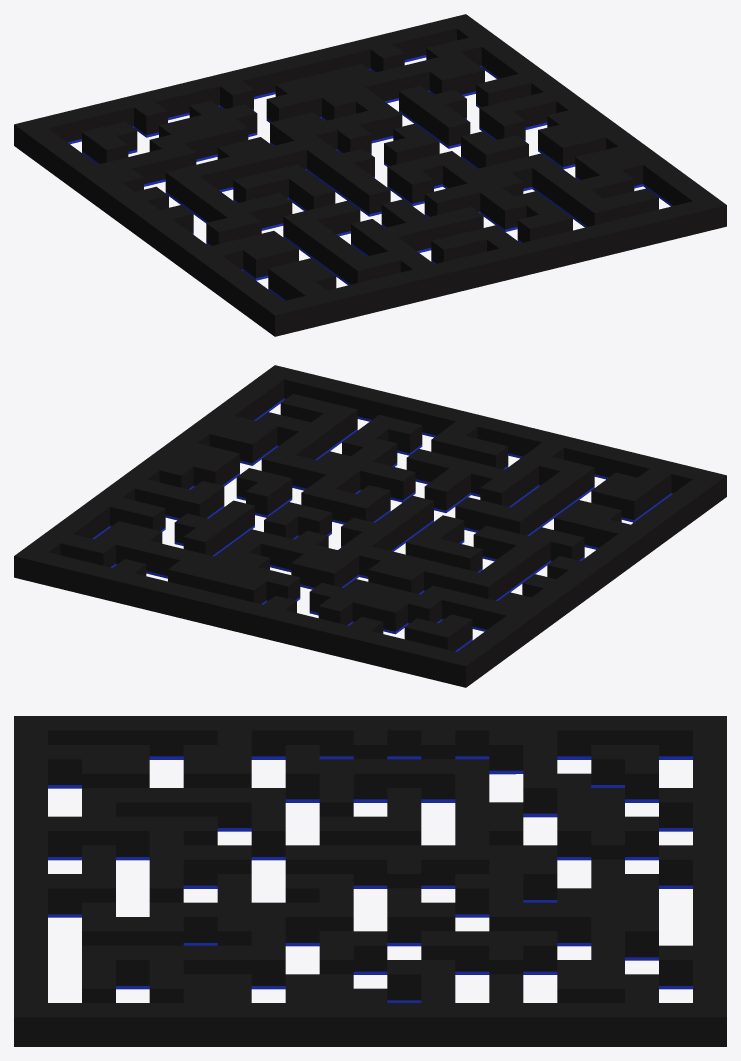
3 views of the same model, one above another, from view 1: azimuth 30°, elevation 25°; view 2: azimuth 150°, elevation 25°; view 3: azimuth 270°, elevation 25° (orthographic). The views are drawn at different scales.
Visible parts, largest first — view 1: Plane; view 2: Plane; view 3: Plane.
Part boxes in pixels (x1=…): Plane: x1=14, y1=14, x2=726, y2=336; Plane: x1=14, y1=365, x2=726, y2=687; Plane: x1=14, y1=716, x2=726, y2=1046.
Size of the model in its own units: 4000 by 182 by 4000.
